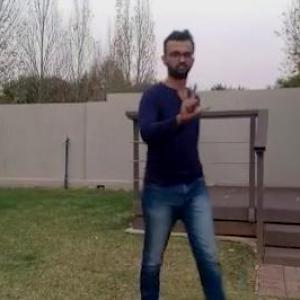land_hand: (169, 80, 217, 126)
